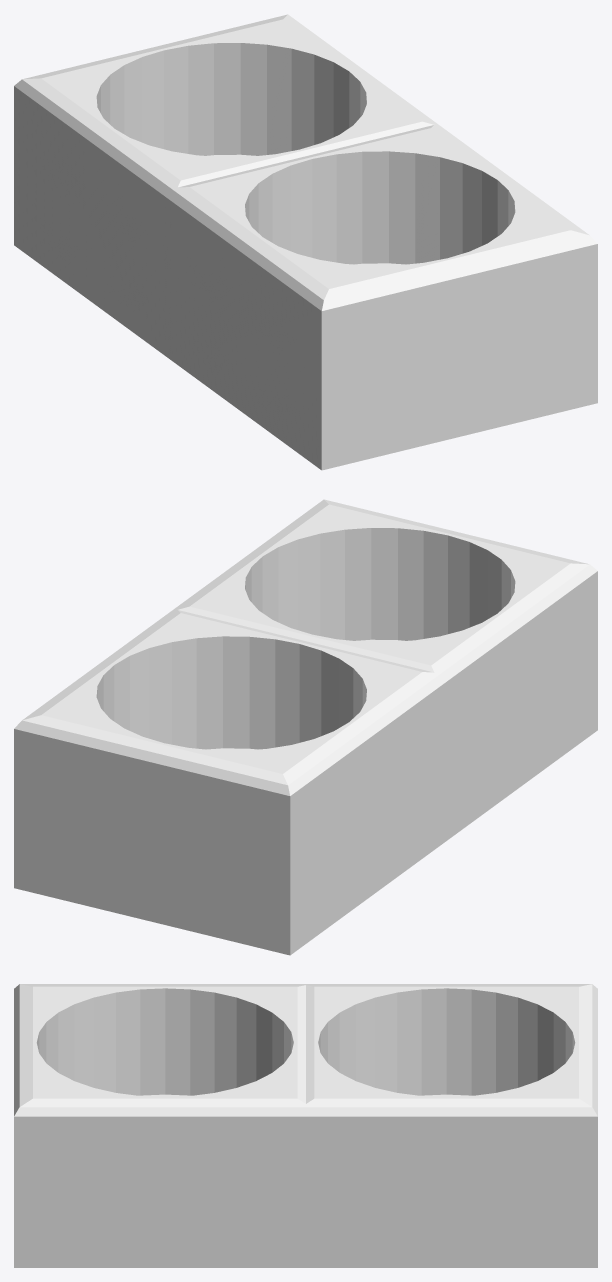
File: oultlet2.fbx
The picture shows the model from 3 angles, top to bottom: view 1: azimuth 30°, elevation 25°; view 2: azimuth 150°, elevation 25°; view 3: azimuth 270°, elevation 25°; orthographic projection. The views are drawn at different scales.
Visible parts, largest first — view 1: Cube.001; view 2: Cube.001; view 3: Cube.001.
Boxes of the visible parts, bbox=[...] form: Cube.001: bbox=[14, 14, 597, 470]; Cube.001: bbox=[14, 499, 597, 955]; Cube.001: bbox=[14, 984, 597, 1267].
Size of the model in its own units: 234 by 137 by 451.
